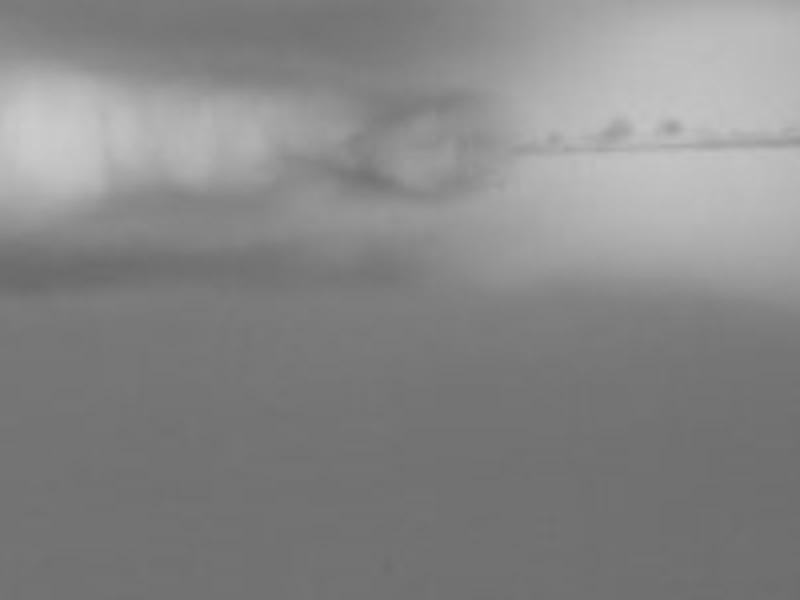defect: (598, 114, 633, 144), (654, 117, 681, 138)
